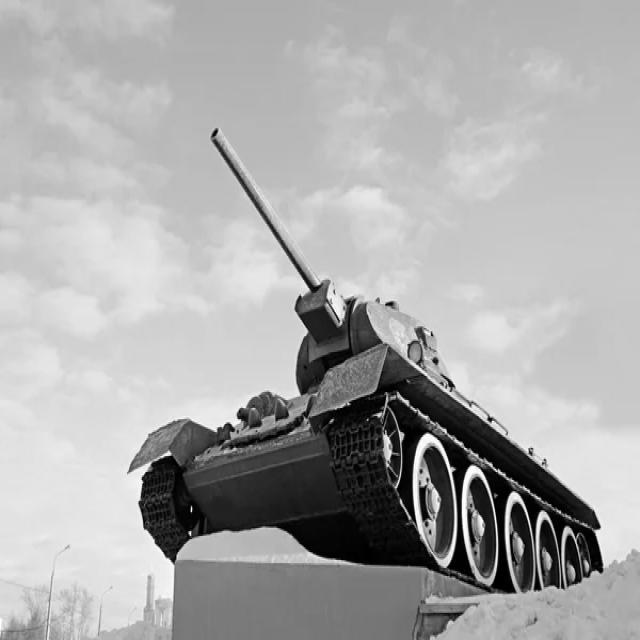Tank: (123, 120, 600, 570)
